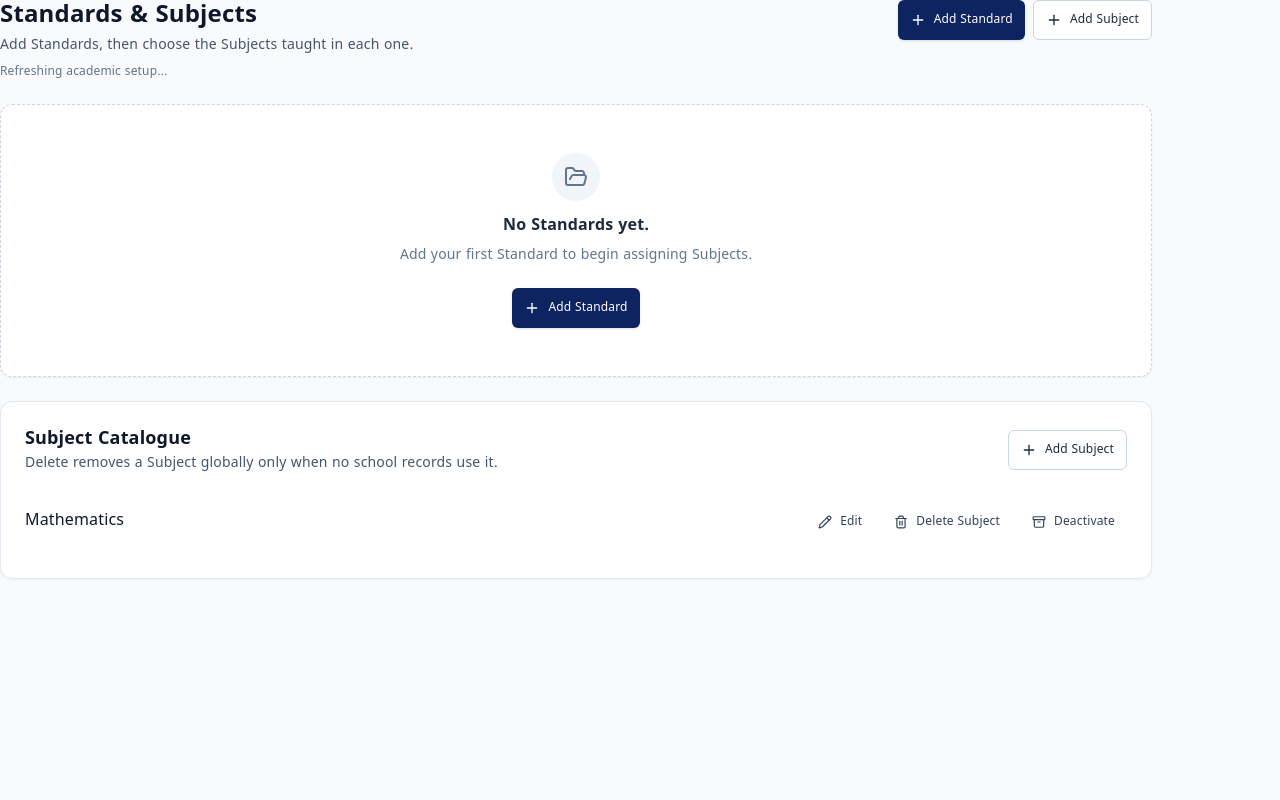
it: AdminAcademicSetupPage › offers clear local dialogs for creating and deleting academic items
Click the button "Add Standard" in the row of "Standards & Subjects": coordinates (961, 20) [898, 0, 1025, 40]
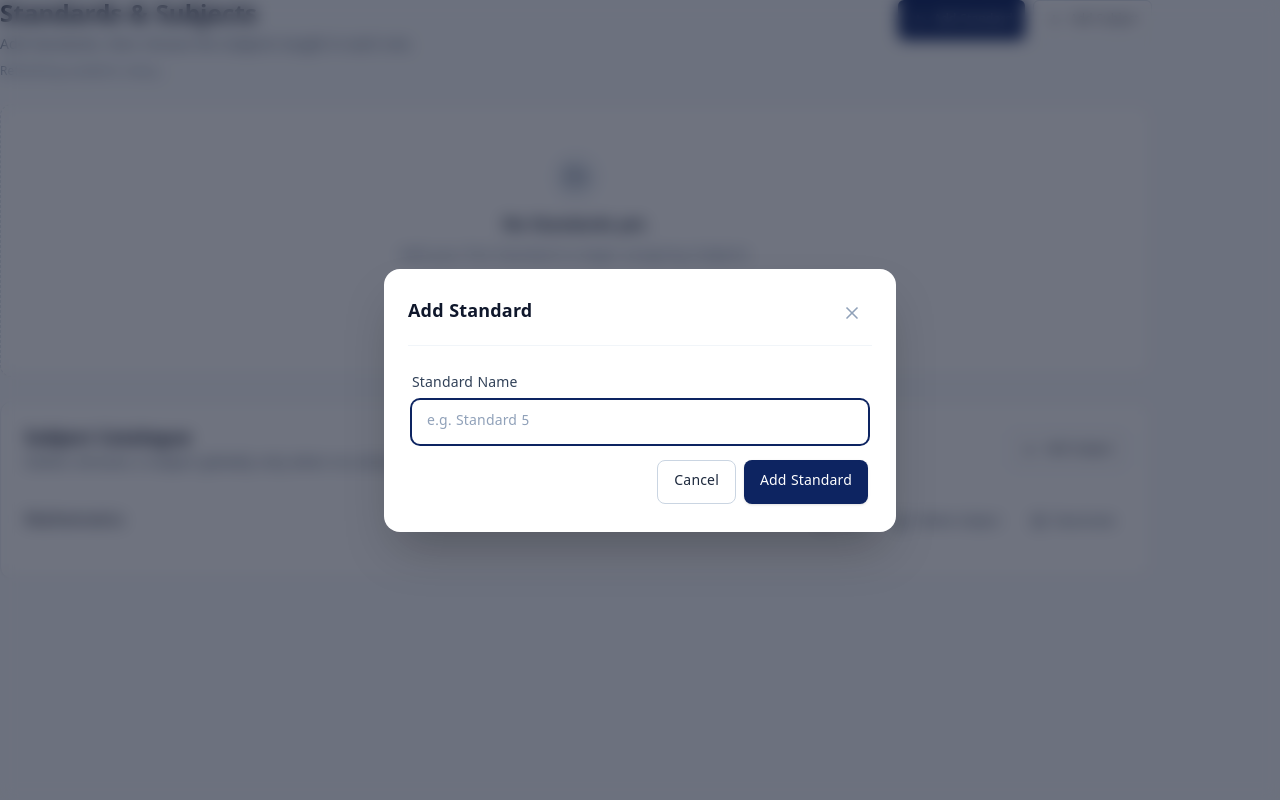
Now the dialog "Add Standard" is shown
Click the button "Cancel": coordinates (697, 482) [657, 460, 736, 504]
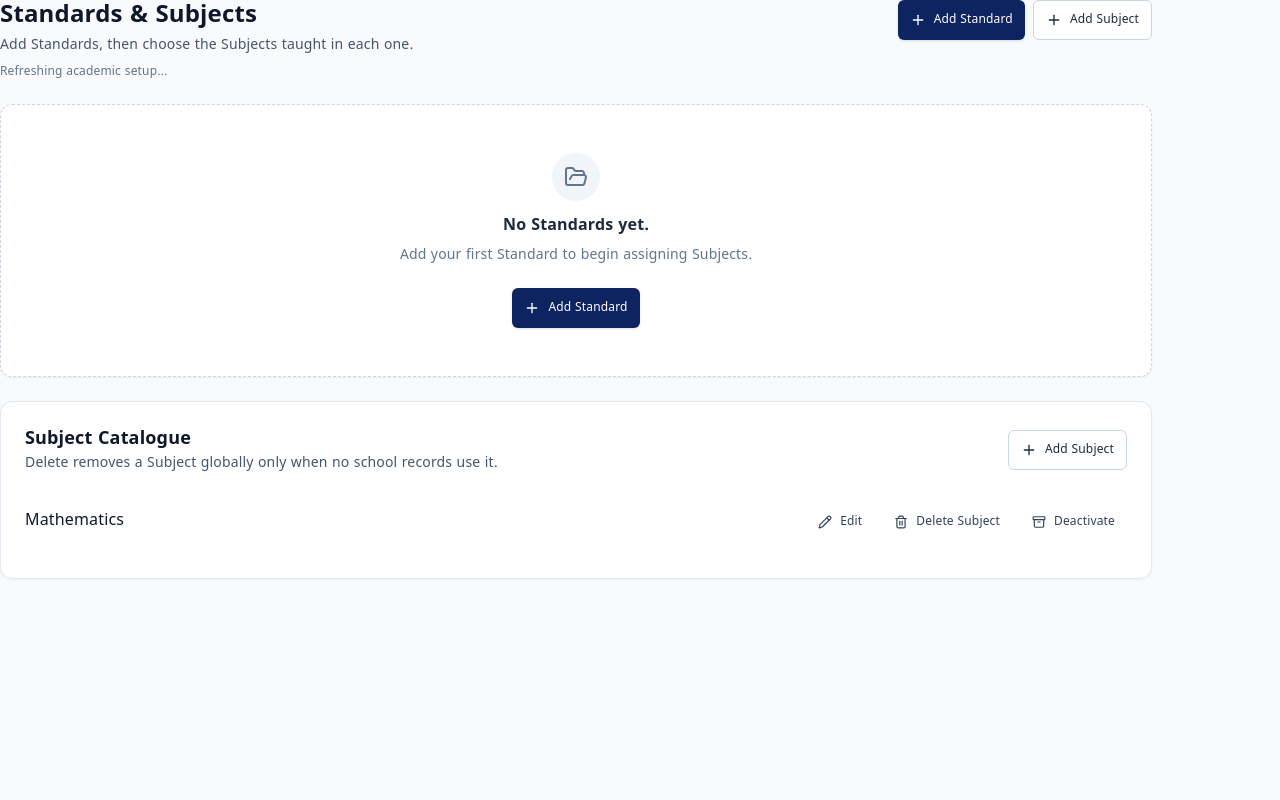
Click the button "Delete Subject": coordinates (947, 522) [882, 502, 1012, 542]
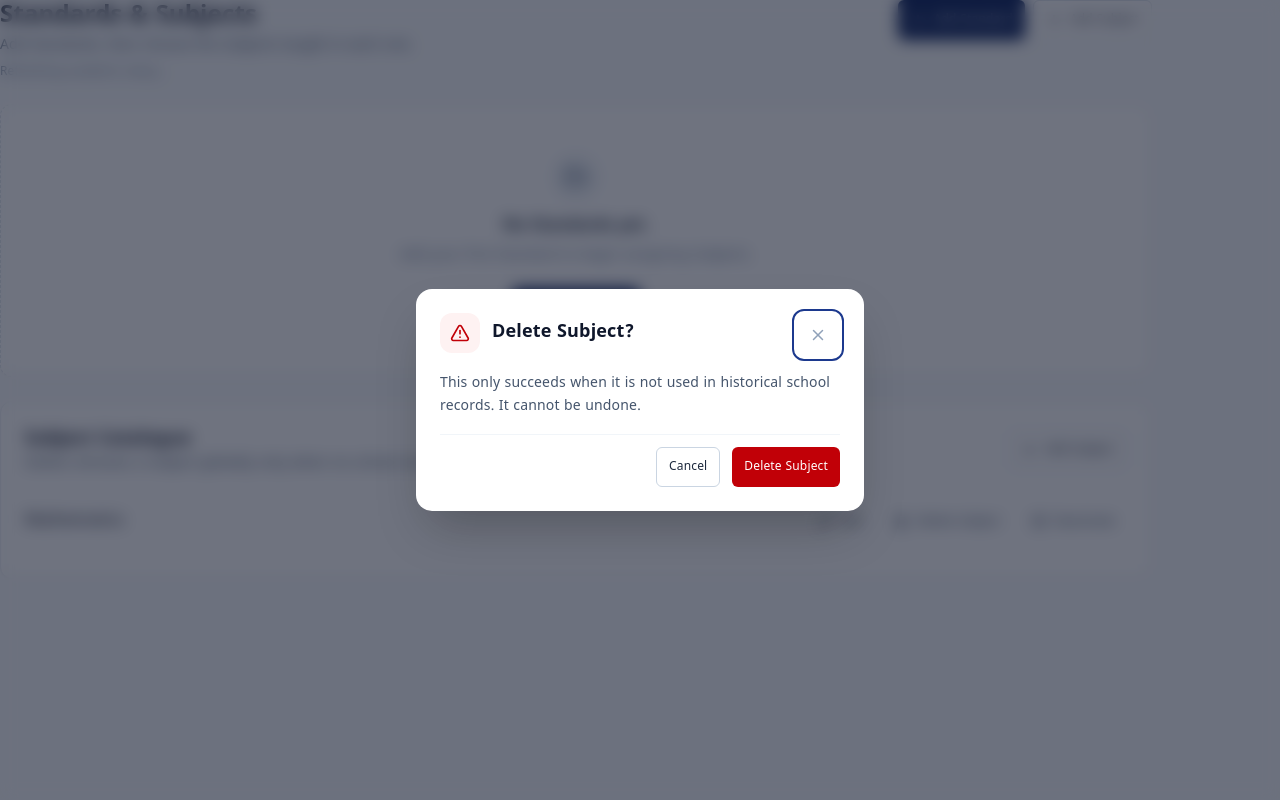
Now the dialog "Delete Subject?" is shown
